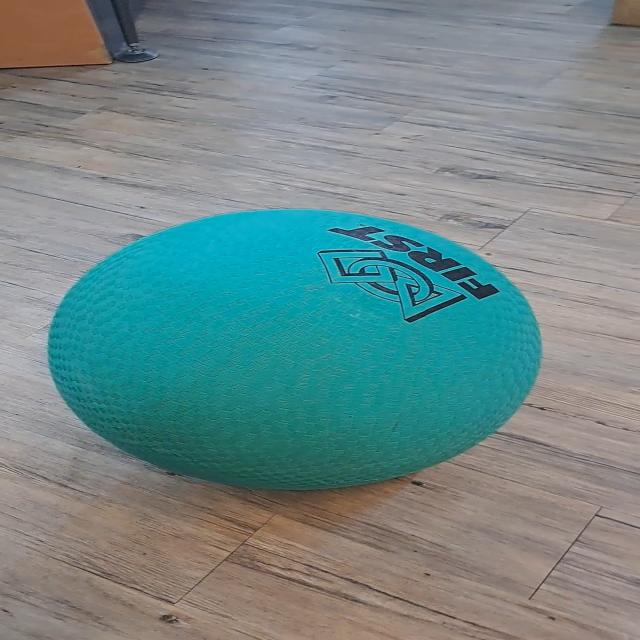ALGAE: (44, 206, 544, 492)
